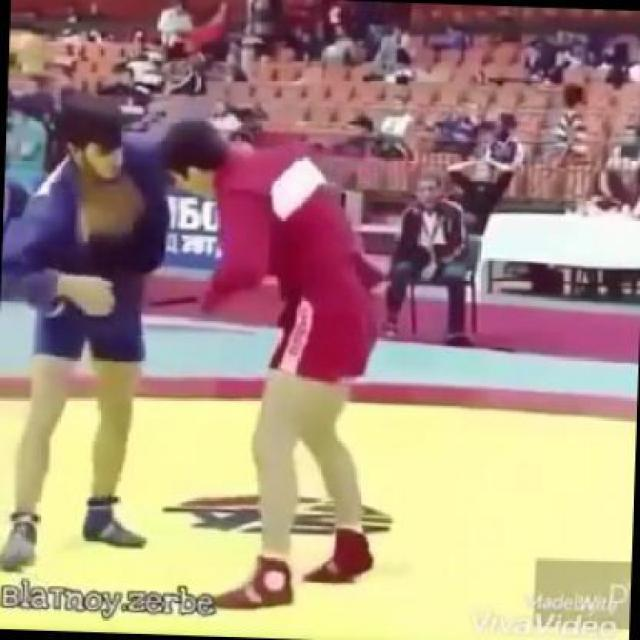fight: (0, 84, 400, 480)
